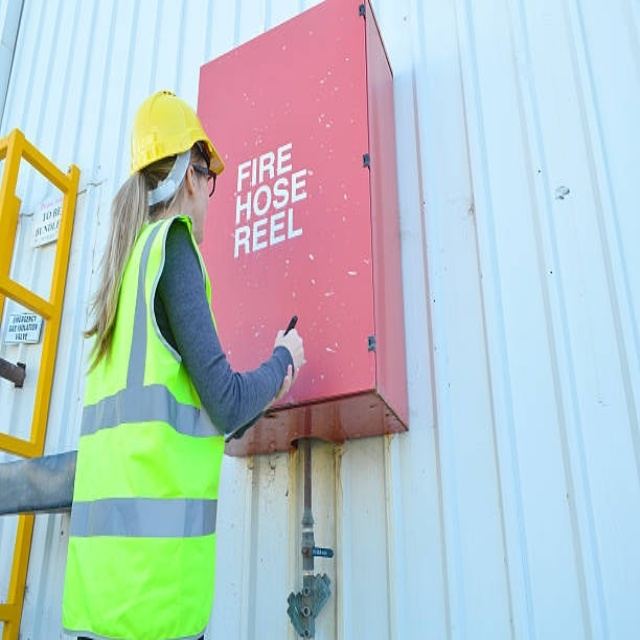Gafas: (191, 162, 217, 197)
Sin_guantes: (273, 320, 307, 390)
